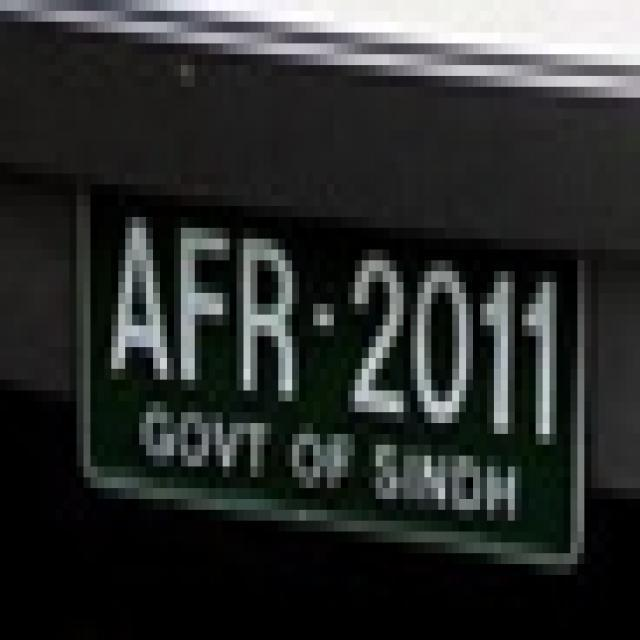0: (410, 244, 480, 442)
1: (519, 258, 567, 453), (478, 258, 524, 451)
A: (100, 208, 173, 402)
F: (172, 200, 234, 392)
R: (236, 215, 303, 408)
